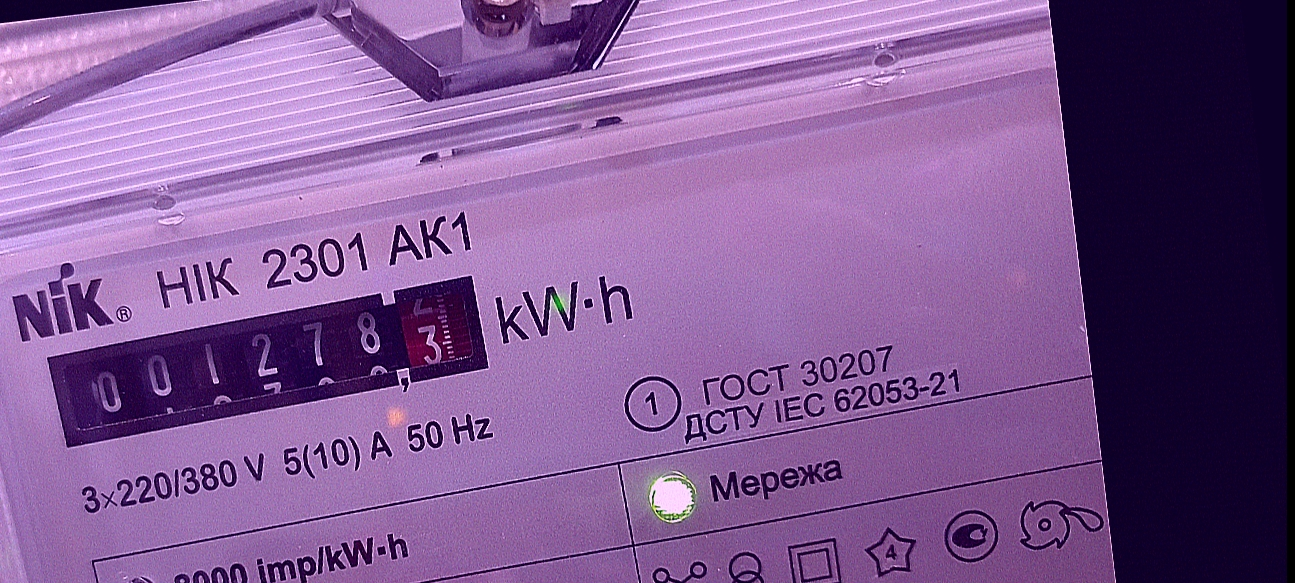0: (91, 365, 123, 416), (141, 351, 172, 400)
1: (198, 338, 221, 386)
2: (246, 330, 278, 379), (407, 295, 433, 317)
3: (412, 321, 443, 367)
7: (298, 319, 326, 368)
8: (352, 309, 381, 356)
screen: (26, 261, 508, 462)
